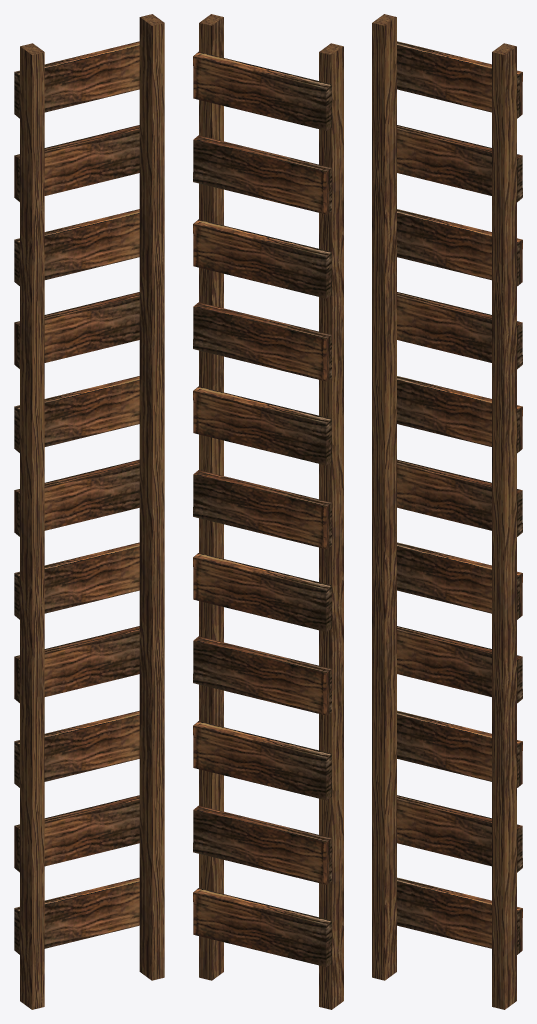
The model's file is INST_LT_LADDER_01.obj.
The picture shows the model from 3 angles, left to right: view 1: azimuth 30°, elevation 25°; view 2: azimuth 150°, elevation 25°; view 3: azimuth 330°, elevation 25°; orthographic projection.
Parts seen in each view (by area): view 1: Inst_ladder_; view 2: Inst_ladder_; view 3: Inst_ladder_.
Part boxes in pixels (bbox=[...]): Inst_ladder_: bbox=[14, 14, 164, 1009]; Inst_ladder_: bbox=[193, 14, 343, 1009]; Inst_ladder_: bbox=[372, 14, 522, 1009].
Bounding box in the file's own units: 50.02 × 342 × 11.43.
